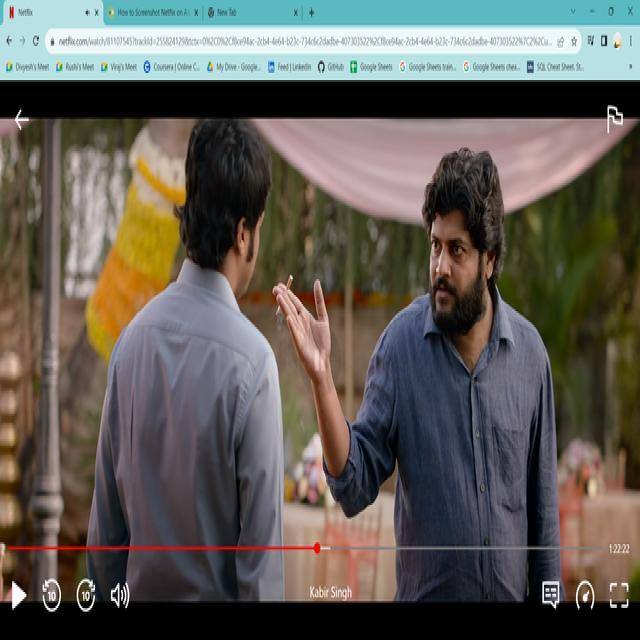smoking: (273, 266, 296, 326)
